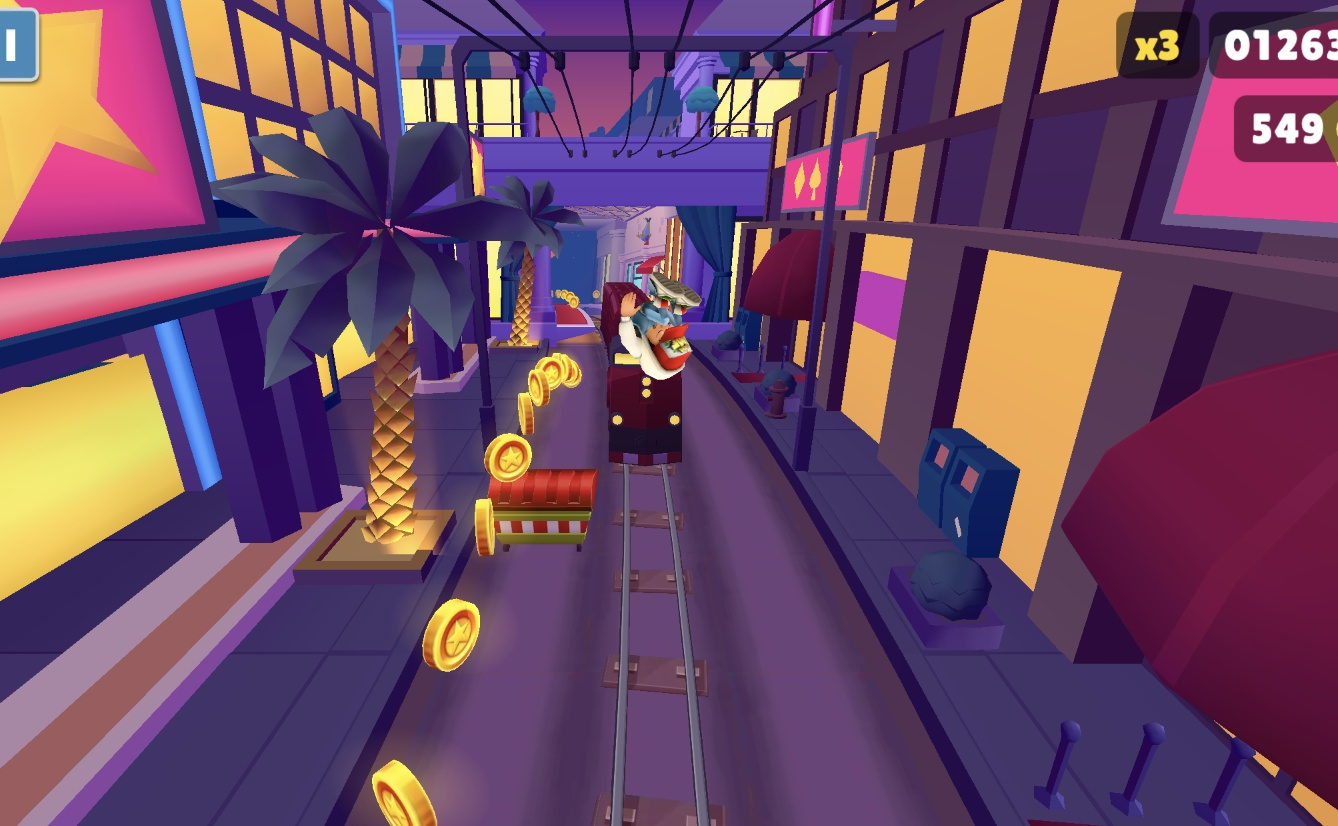small_obstacle: (487, 469, 597, 554)
train: (607, 282, 686, 469)
